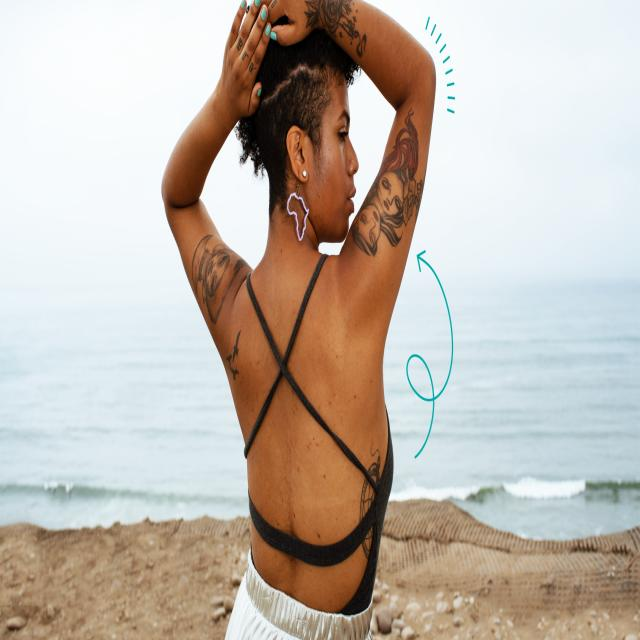sem_oculos: (280, 96, 358, 147)
